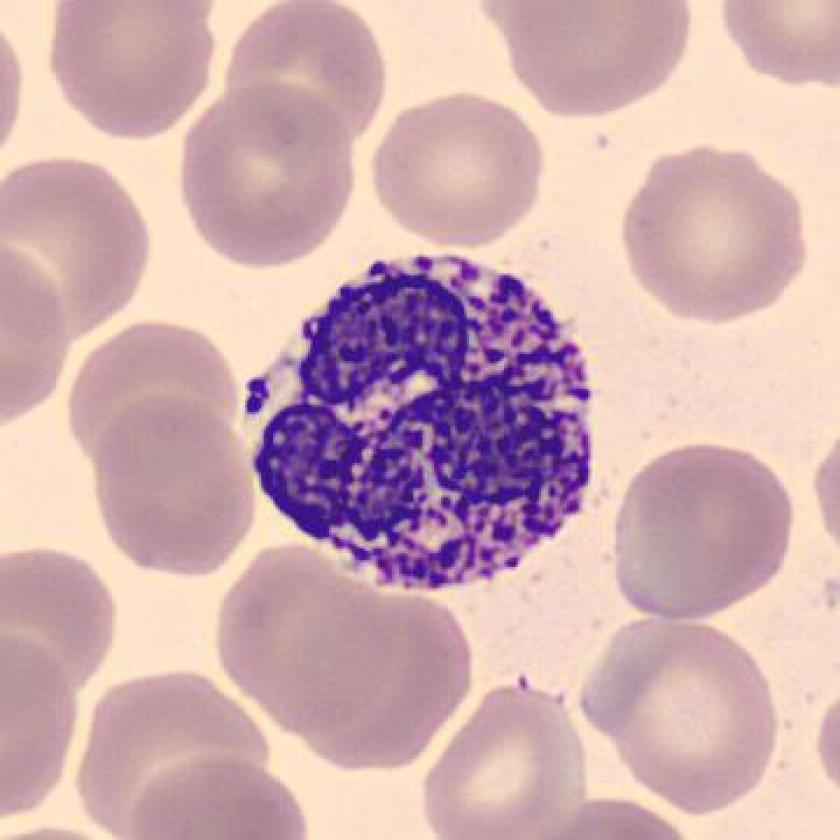basophil: (246, 251, 594, 591)
